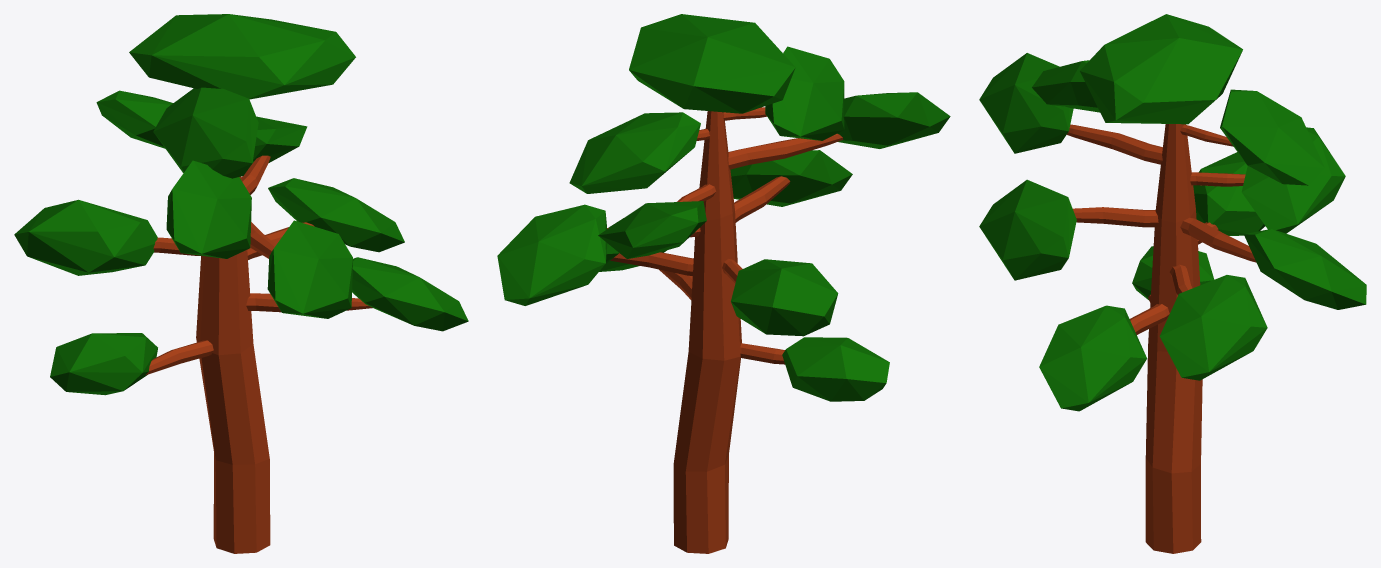
Rendered from TestTree.fbx.
The picture shows the model from 3 angles, left to right: view 1: azimuth 30°, elevation 25°; view 2: azimuth 150°, elevation 25°; view 3: azimuth 270°, elevation 25°; orthographic projection. The views are drawn at different scales.
Visible parts, largest first — view 1: Circle; view 2: Circle; view 3: Circle.
Boxes of the visible parts, x1=… form: Circle: x1=14, y1=14, x2=468, y2=553; Circle: x1=497, y1=14, x2=950, y2=553; Circle: x1=979, y1=14, x2=1366, y2=553.
Bounding box in the file's own units: 1433 × 1985 × 1395.
